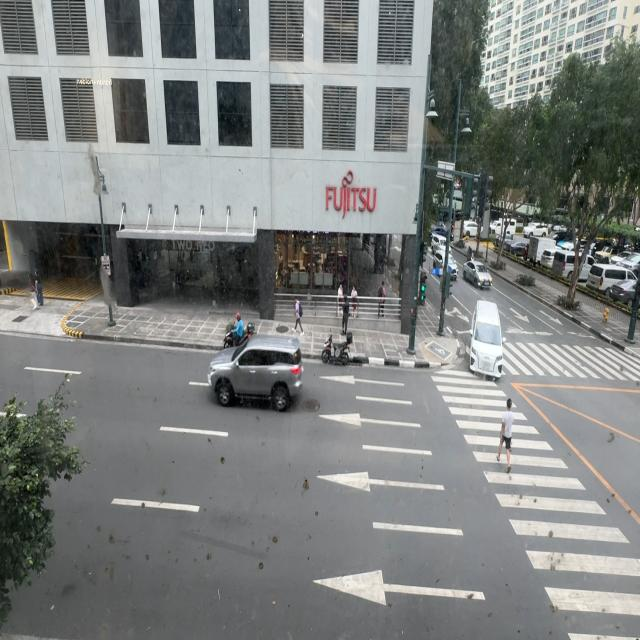crossing: (496, 400, 514, 474)
pedestrain: (29, 272, 39, 310), (294, 298, 304, 334), (342, 300, 350, 336), (378, 281, 386, 316), (351, 285, 358, 318), (337, 284, 344, 316)
